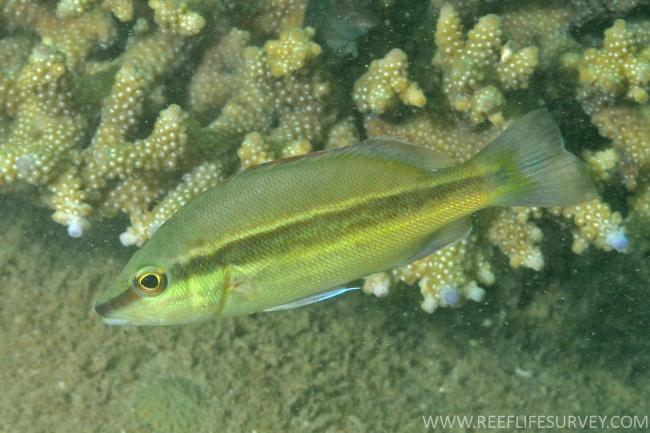fish: (94, 107, 600, 326)
